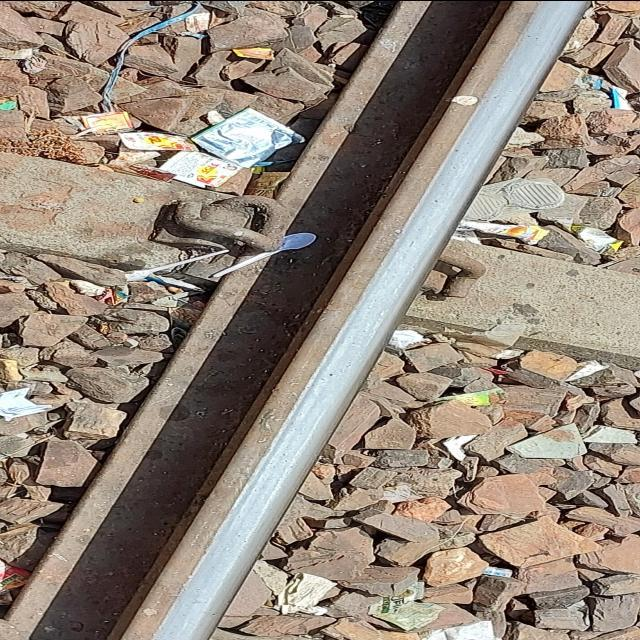squats_high: (324, 371, 340, 377), (432, 198, 442, 202), (455, 149, 462, 152)
